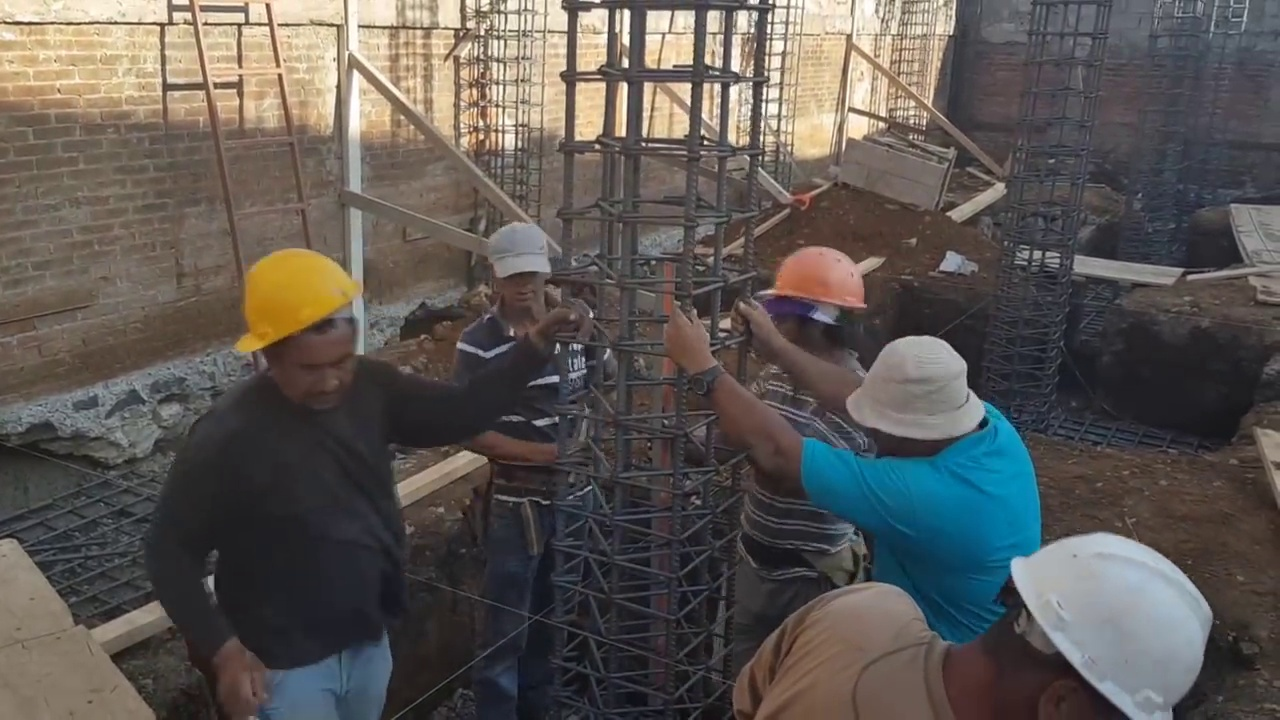helmet: (1013, 537, 1215, 715), (232, 246, 360, 354), (759, 246, 879, 324)
helmet-off: (854, 333, 976, 471), (483, 223, 567, 325)
helmet-on: (925, 530, 1215, 719), (236, 238, 369, 412), (752, 250, 887, 377)
person: (172, 231, 585, 720), (683, 265, 1041, 718), (726, 521, 1224, 719), (708, 242, 892, 678), (449, 222, 618, 525)
